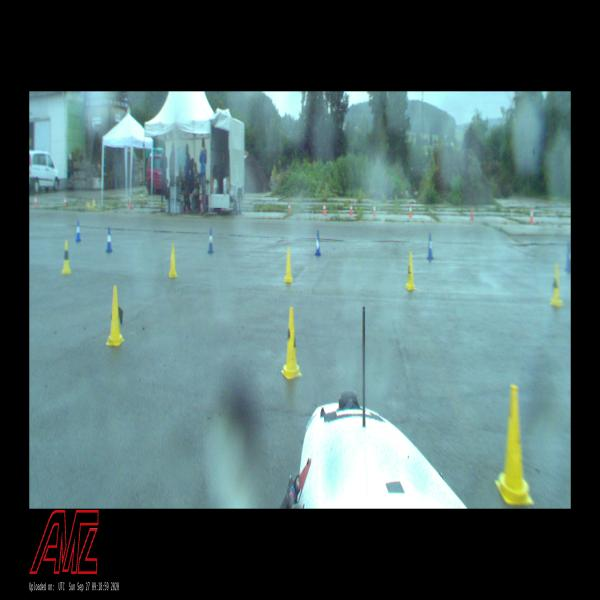blue_cone: (565, 241, 571, 273), (427, 234, 433, 260), (208, 228, 214, 253), (315, 230, 321, 255), (106, 228, 112, 252), (75, 220, 81, 241)
orange_cone: (372, 202, 376, 215), (530, 207, 533, 223), (34, 195, 38, 206), (63, 197, 67, 207), (323, 202, 326, 215), (409, 204, 412, 217), (350, 202, 353, 215), (470, 207, 473, 220), (288, 202, 290, 213)
yellow_cone: (494, 384, 534, 506), (280, 306, 301, 379), (105, 285, 124, 346), (549, 264, 563, 307), (405, 253, 416, 290), (284, 247, 294, 282), (168, 243, 178, 277), (61, 241, 71, 274)
